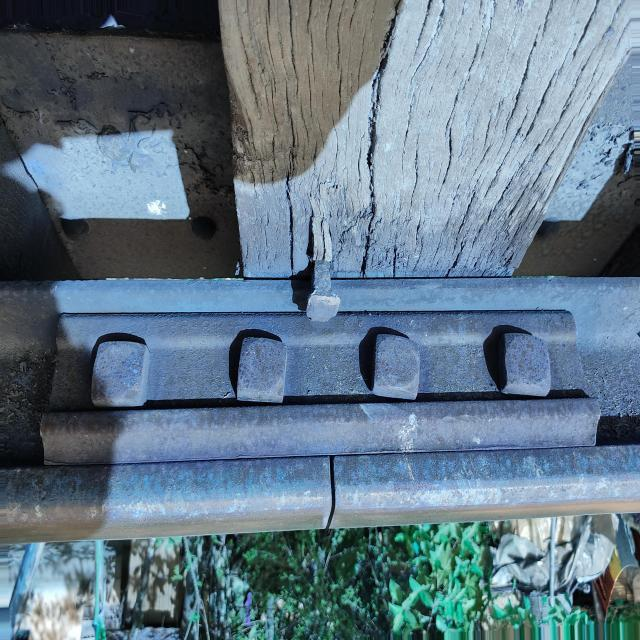Good Fasteners: (306, 215, 341, 321)
Good Joint: (40, 309, 601, 465)
